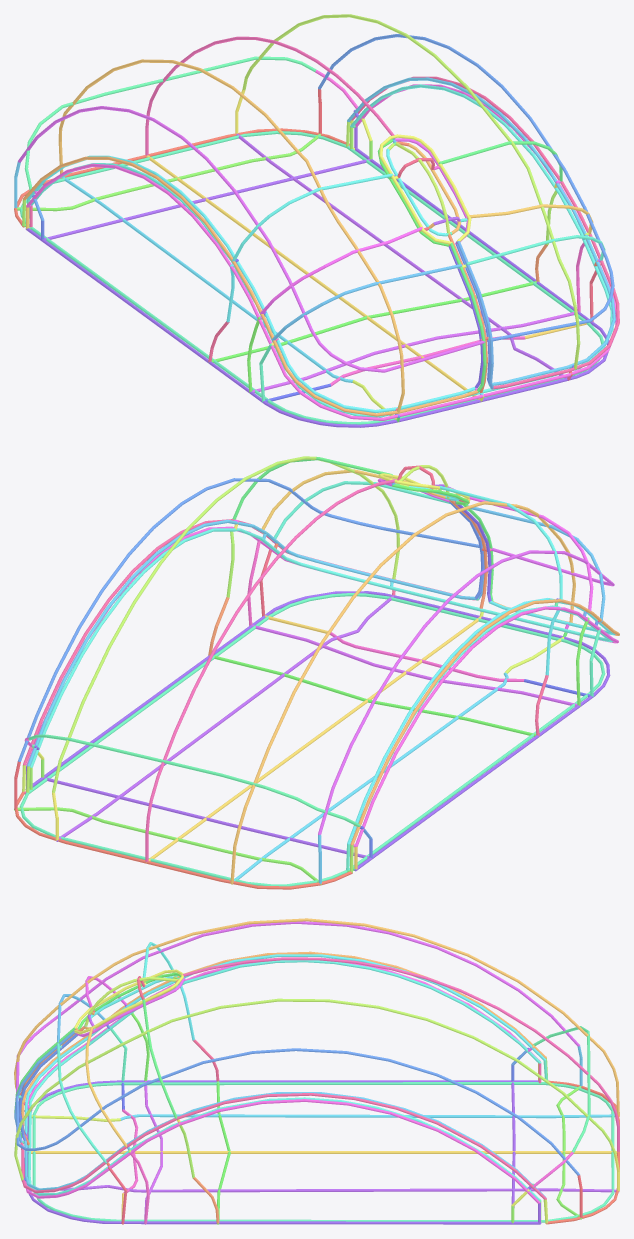
Rendered from flowrep_mouse.gltf.
3 views of the same model, one above another, from view 1: azimuth 30°, elevation 25°; view 2: azimuth 150°, elevation 25°; view 3: azimuth 270°, elevation 25° (orthographic). The views are drawn at different scales.
Bounding box in the file's own units: 0.4688 × 0.2994 × 0.8374.
